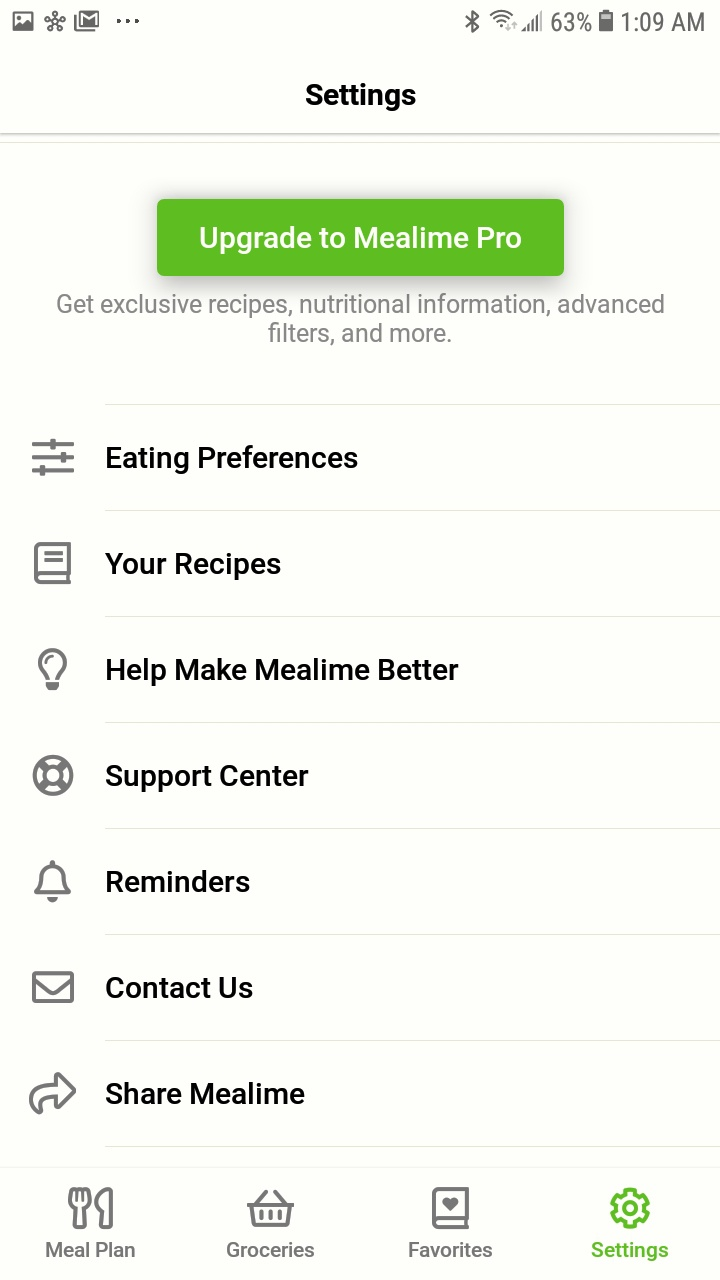Icon: (29, 1071, 78, 1115), (610, 1188, 651, 1230), (431, 1186, 470, 1230), (32, 438, 76, 477), (34, 542, 73, 585), (35, 859, 73, 903), (32, 970, 75, 1004)
Image: (68, 1186, 115, 1230), (246, 1189, 295, 1228), (33, 755, 75, 797), (38, 647, 69, 691)
Text: (57, 293, 665, 347), (107, 658, 460, 687), (107, 444, 359, 475), (106, 764, 310, 793), (105, 552, 282, 581), (106, 1081, 306, 1105), (107, 869, 251, 893), (106, 976, 254, 999), (305, 84, 417, 113), (591, 1241, 669, 1262), (46, 1241, 137, 1258), (226, 1241, 315, 1258), (408, 1241, 493, 1258)
TextButton: (157, 199, 565, 277)
UpperTaskBar: (1, 1, 720, 43)
